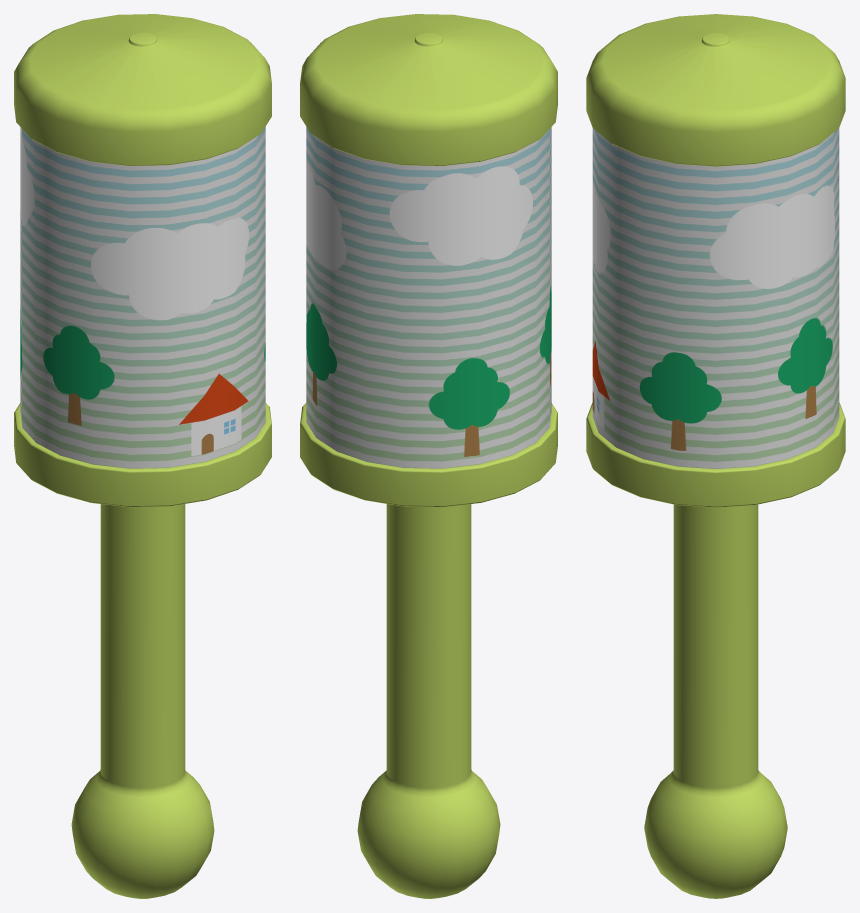
File: rattle_green.fbx
3 renders of one model, left to right at view 1: azimuth 30°, elevation 25°; view 2: azimuth 150°, elevation 25°; view 3: azimuth 270°, elevation 25°, orthographic.
Parts seen in each view (by area): view 1: Tattle_Green; view 2: Tattle_Green; view 3: Tattle_Green.
Part boxes in pixels (left/top/right/bottom): Tattle_Green: left=14, top=14, right=271, bottom=898; Tattle_Green: left=300, top=14, right=557, bottom=898; Tattle_Green: left=586, top=14, right=845, bottom=898.
Bounding box in the file's own units: 5.52 × 20.06 × 5.52.
1 material, 1 textured.
